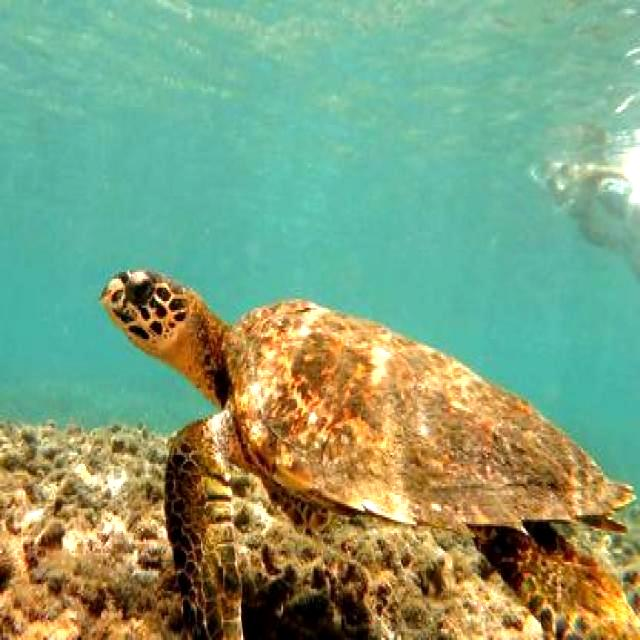Sea turtle: (92, 257, 640, 640)
